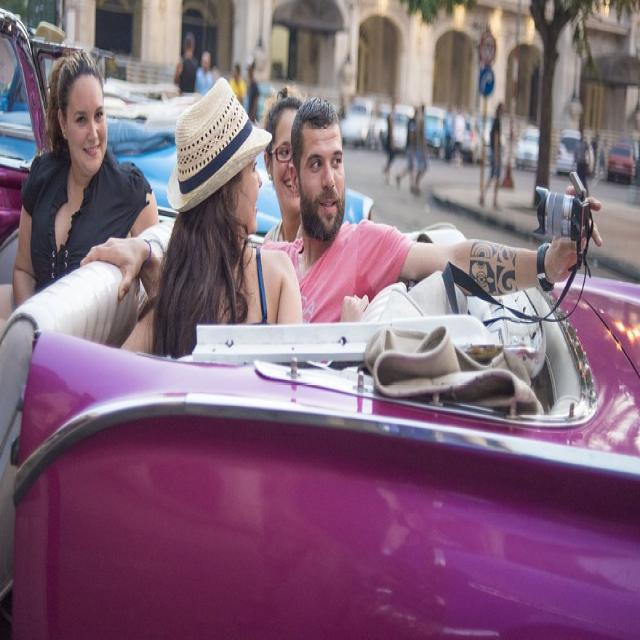body: (78, 94, 604, 324), (118, 72, 304, 366), (118, 79, 304, 359), (0, 46, 161, 342), (477, 98, 508, 212), (440, 105, 476, 168), (396, 103, 419, 194), (332, 86, 381, 125), (572, 115, 592, 199), (172, 31, 198, 94), (379, 98, 398, 181), (243, 53, 261, 124), (415, 104, 429, 192), (96, 44, 129, 76), (194, 49, 213, 96), (228, 62, 247, 106), (593, 125, 607, 181), (208, 60, 220, 84)
